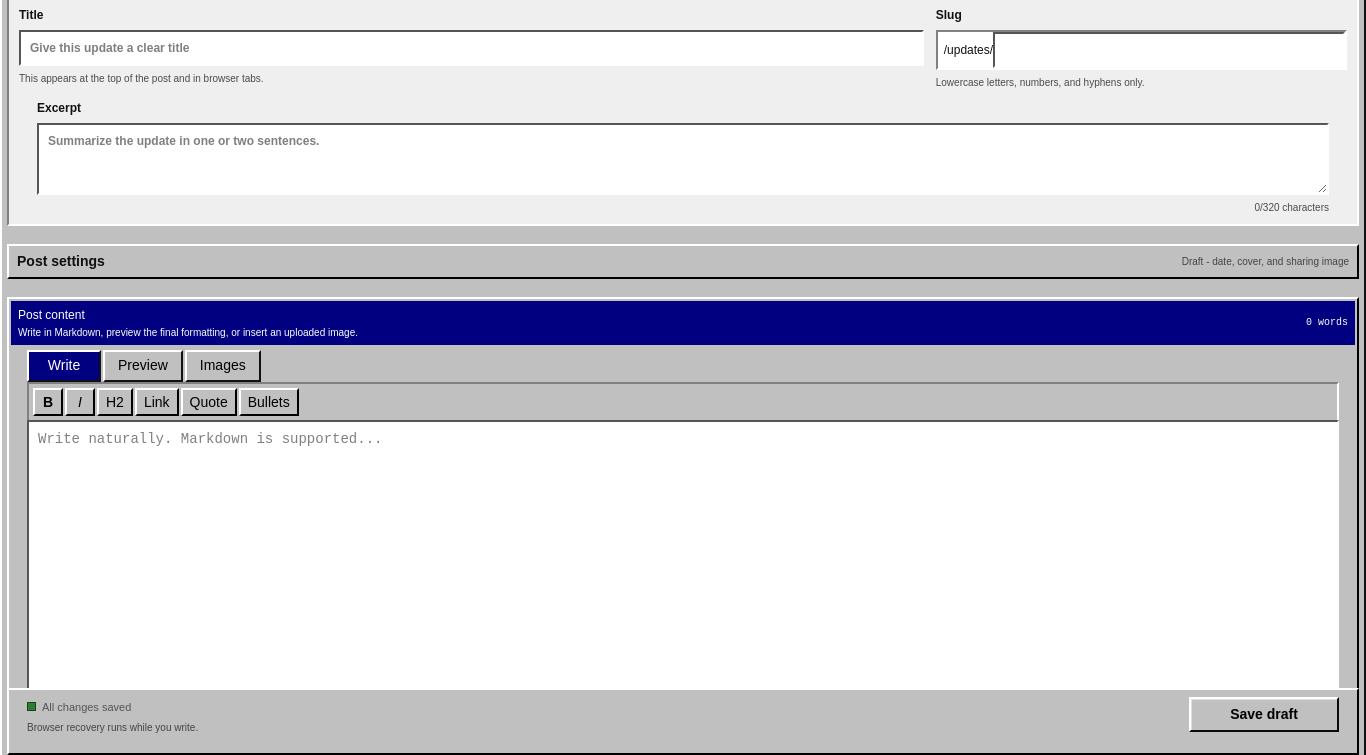
Scenario: PostEditor autosave › keeps recovery and gives refresh guidance when a save request is interrupted
In the field labelled "Title": (471, 48) [19,30,924,66], type "Safe local copy"
(page scrolled)
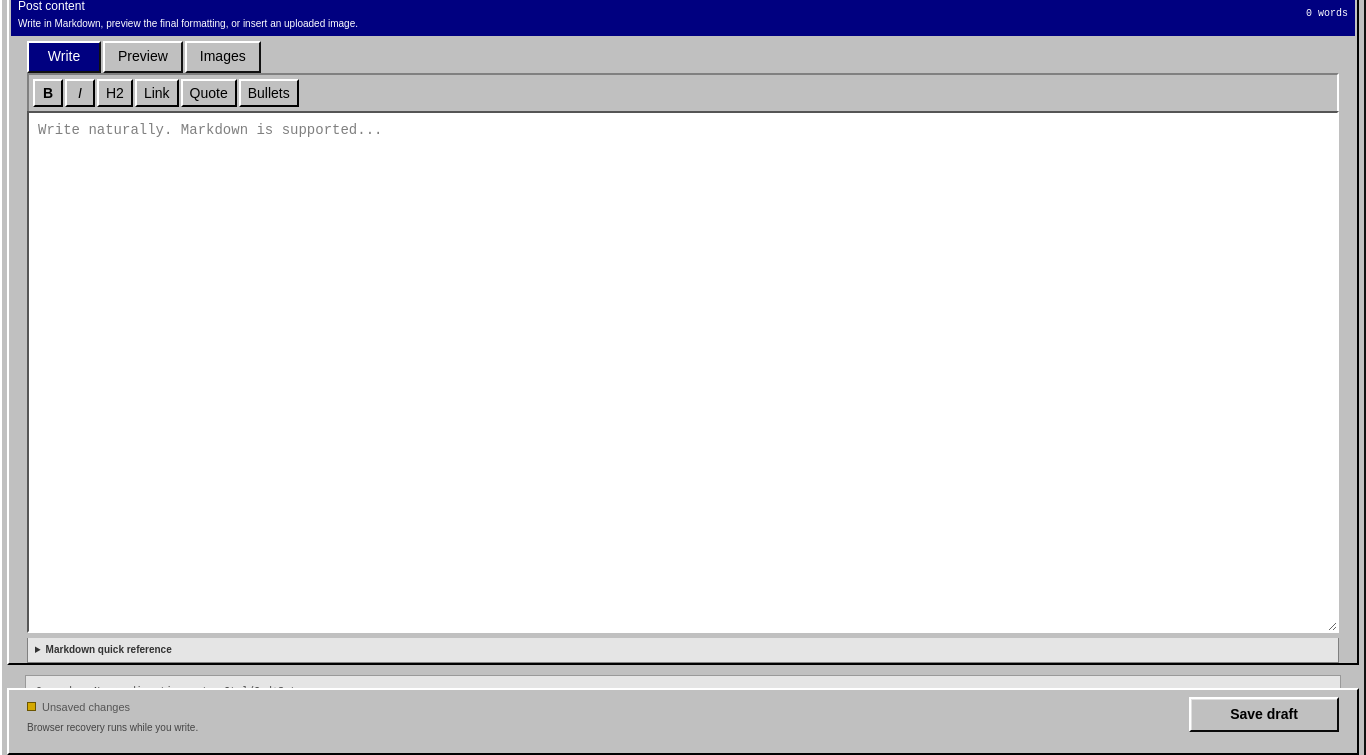
In the text box with placeholder "Write naturally. Markdown is supported...": (683, 372) [27,110,1339,632], type "Still here."
Wait 3000 ms
(page scrolled)
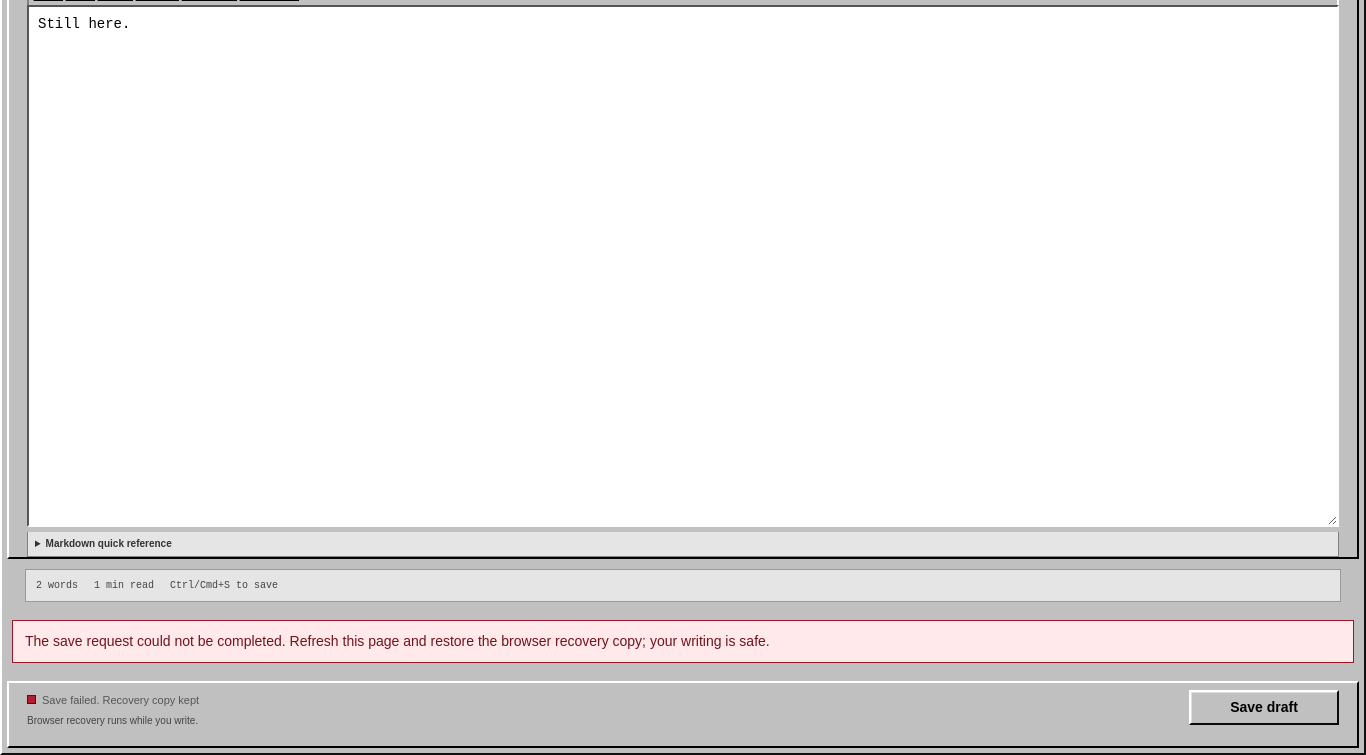
Expected: the text "Refresh this page and restore the browser recovery copy" is shown, [25,633,770,649]
